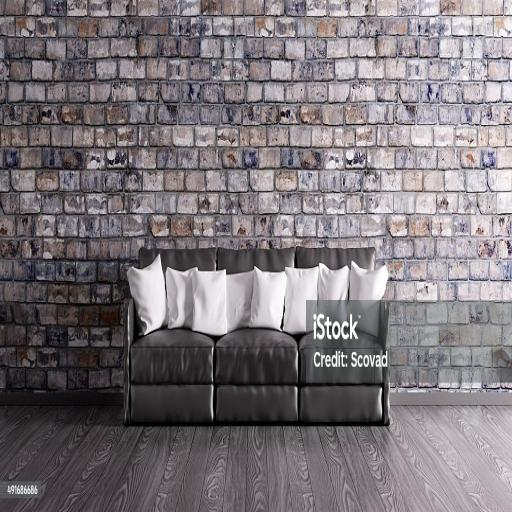back_cushion: (128, 248, 388, 335)
base: (125, 383, 389, 423)
left_arm: (376, 301, 390, 424)
right_arm: (124, 298, 138, 423)
seat_cushion: (128, 315, 388, 383)
stallion-sofa: (124, 248, 389, 423)
